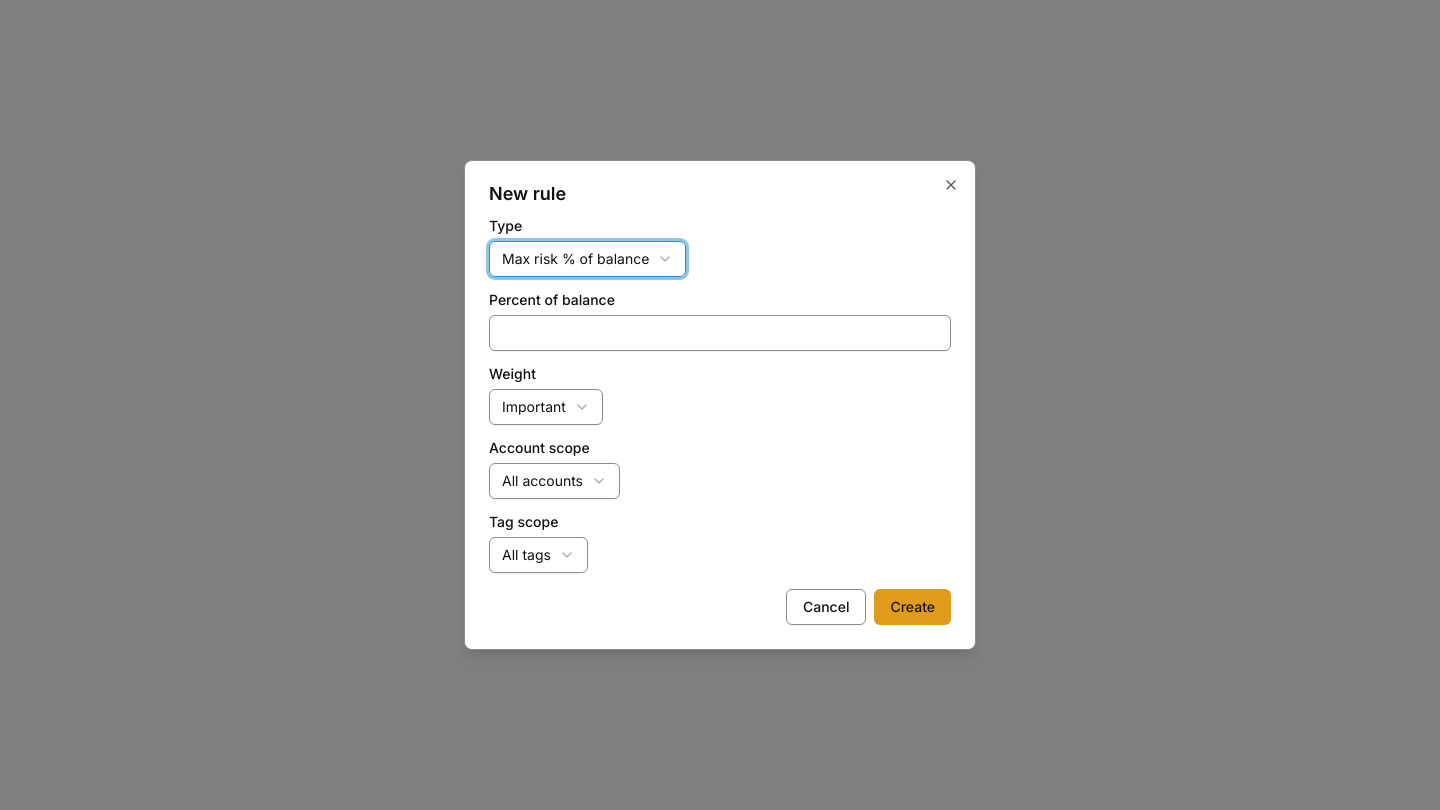
RuleDialog — field errors › shows a field error and does not submit when the percent is empty
The width and height of the screenshot is (1440, 810).
What coordinates should you click on to do the following:
click the button "Create"
I would click on:
 (913, 607)
Its box is [874,589,951,625].
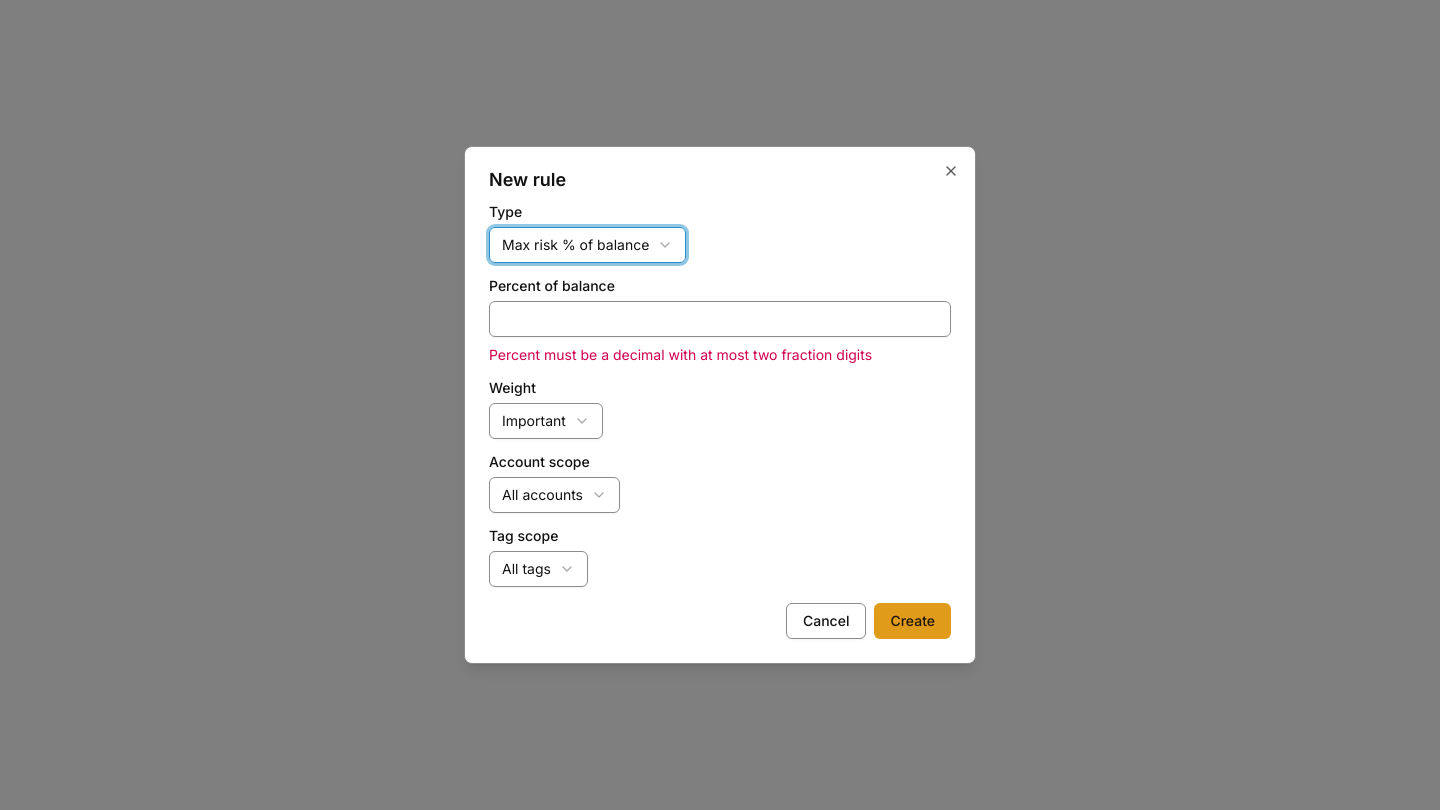
Expected: the text "Percent must be a decimal with at most two fraction digits" is shown, [489,346,872,363]
